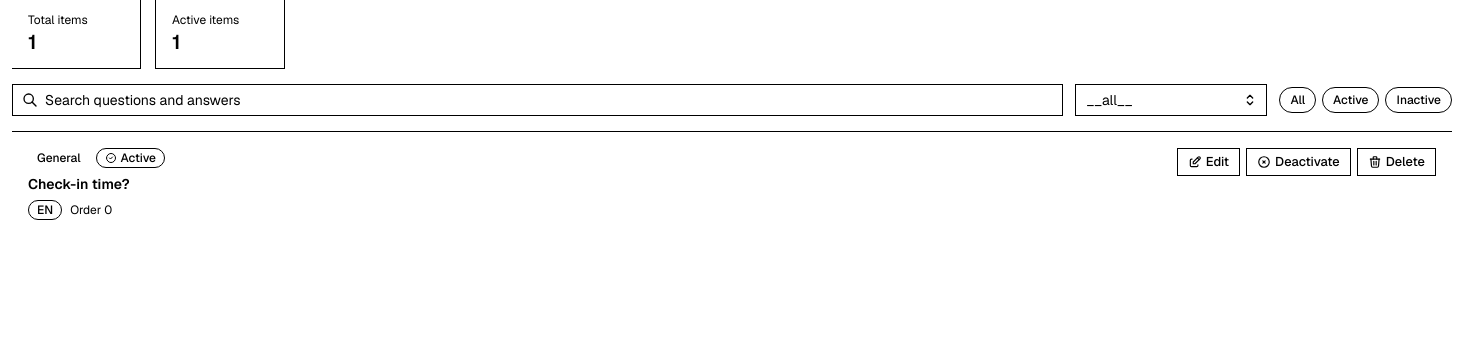
Scenario: KnowledgeView — empty and no-results states › shows a no-results state when the search excludes every item, offering to clear filters
Expected: the text "Check-in time?" is shown, [28, 175, 130, 193]
In the search field named "Search knowledge base": [538, 100] box [12, 84, 1063, 116], type "nonexistent search term"
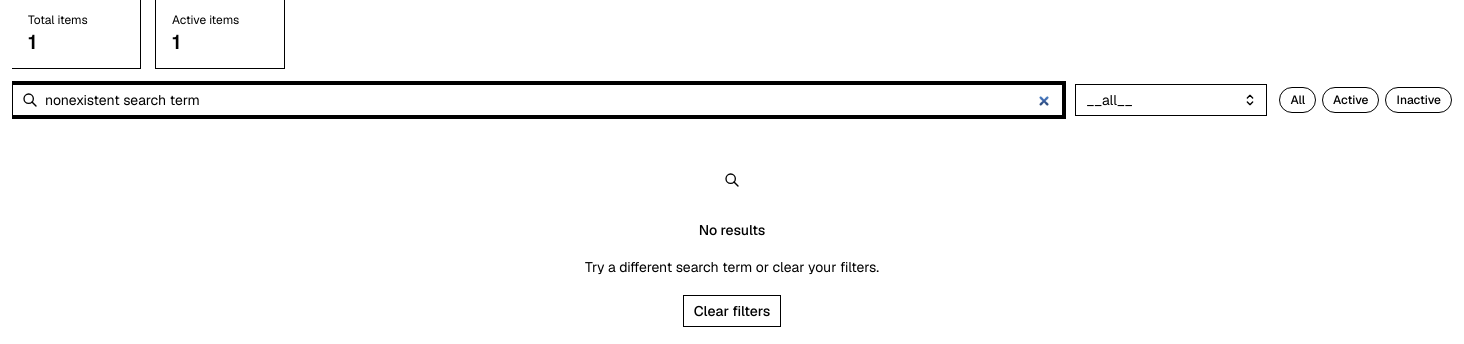
Now the text "No results" is shown, box [699, 220, 765, 240]
Now the button "Clear filters" is shown, box [683, 295, 781, 327]
